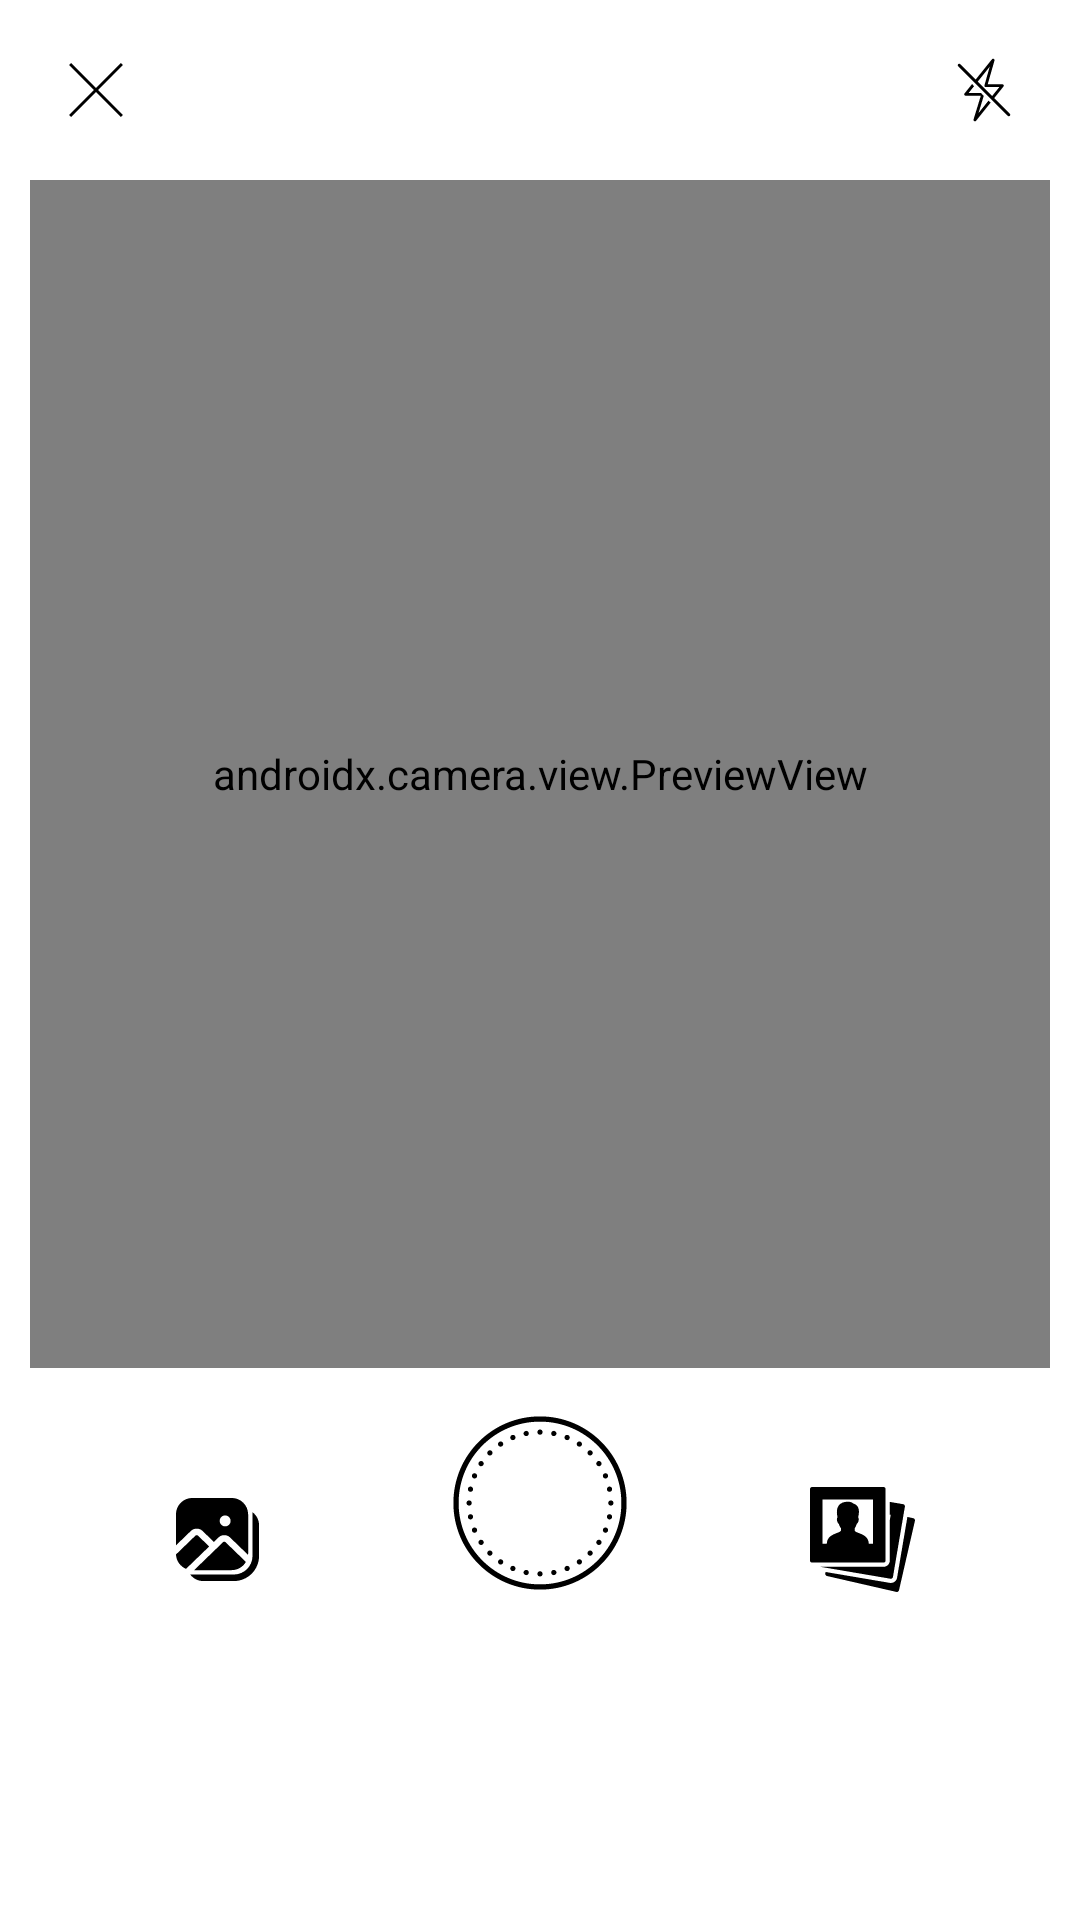

Icons on this 1080px x 1920px Android screen, each with the point to tap as point (x, y):
cross: point (96, 90)
flash off: point (984, 90)
galleryyyy: point (217, 1539)
multipleee: point (862, 1539)
